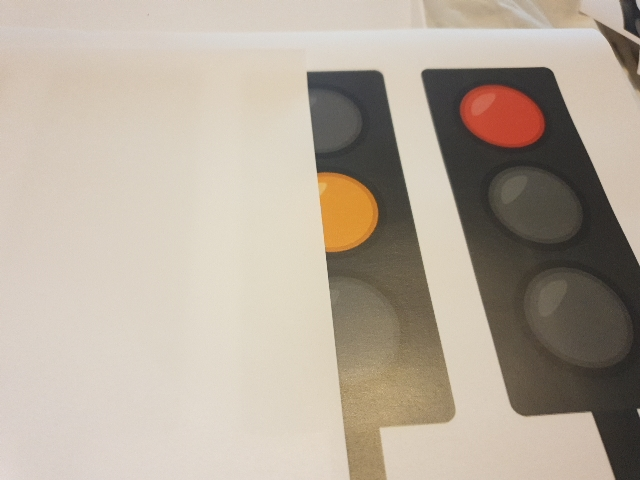amber: (288, 77, 393, 399)
red: (446, 78, 586, 376)
